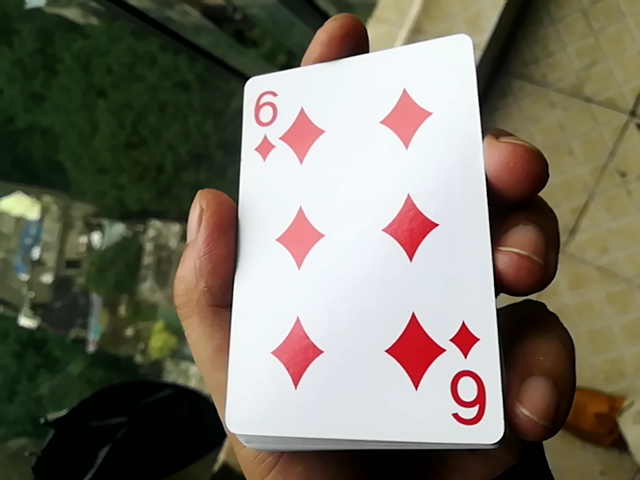fk 6: (210, 28, 511, 448)
